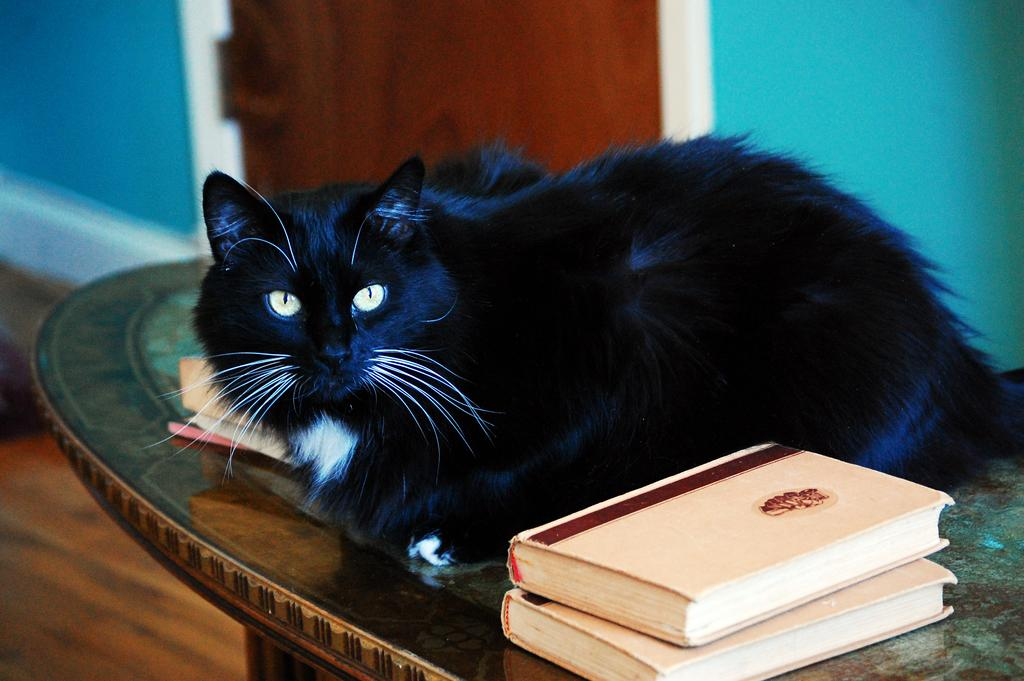Book: (509, 463, 913, 661)
